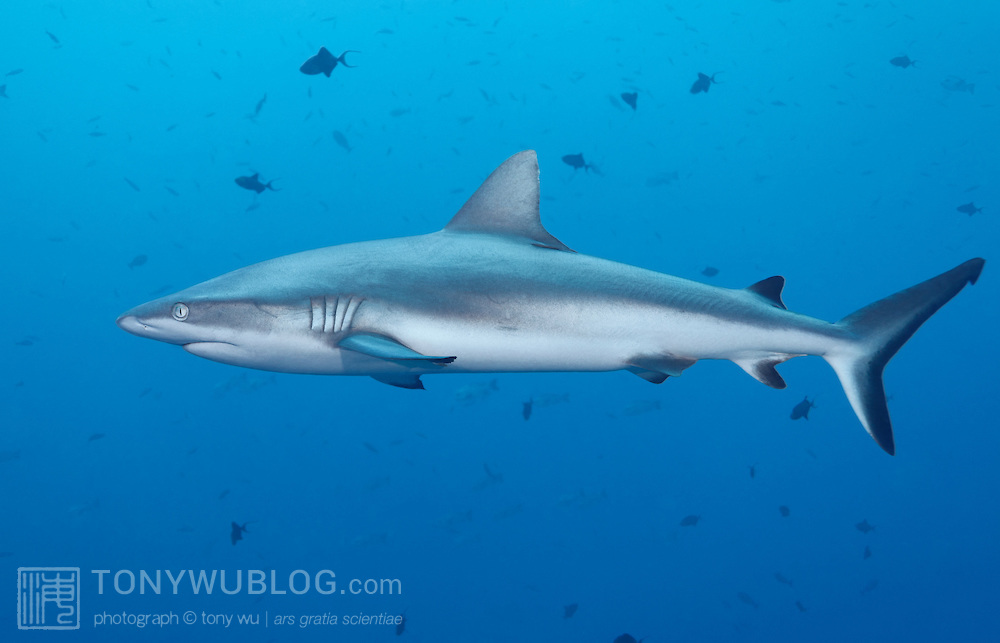Carcharhinus_amblyrhynchos: (99, 148, 998, 485)
